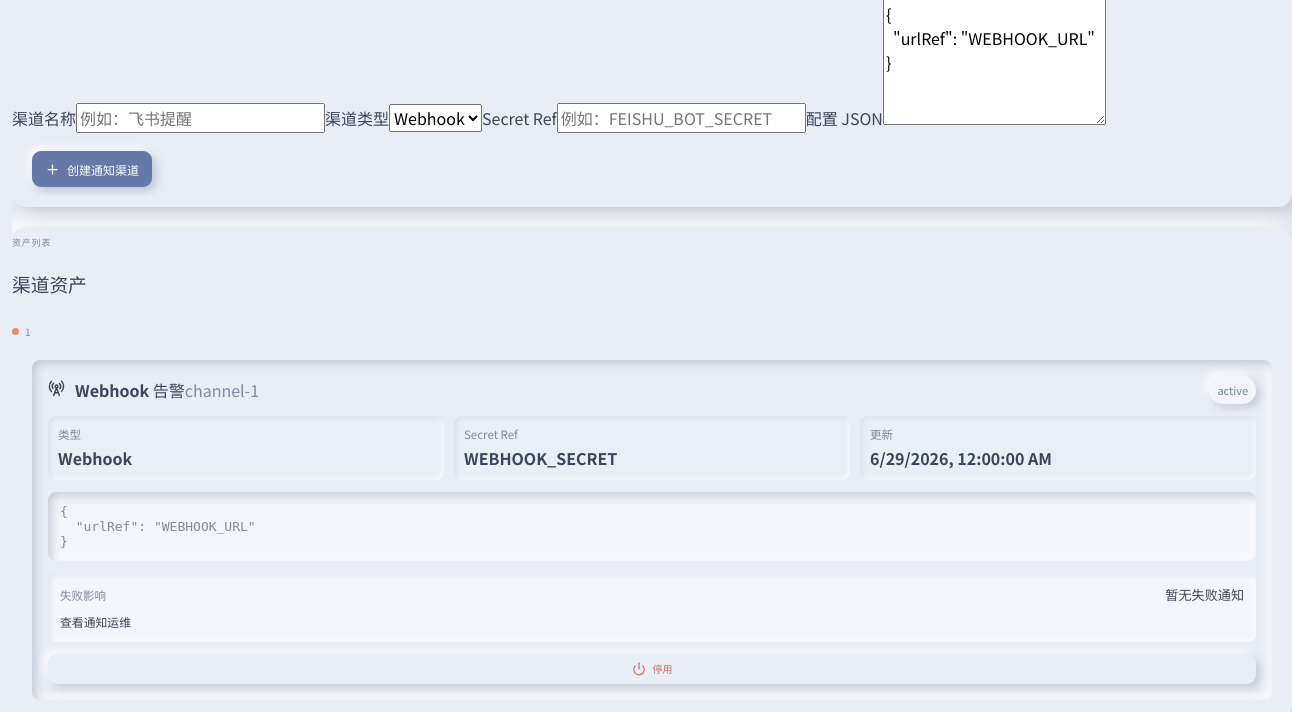
Test: NotificationChannels page › disables active channels and removes the disable action
(page scrolled)
Expected: the text "Webhook 告警" is shown, [75,378,185,402]
Click the button with aria-label "停用 Webhook 告警": (652, 669) [48,654,1256,684]
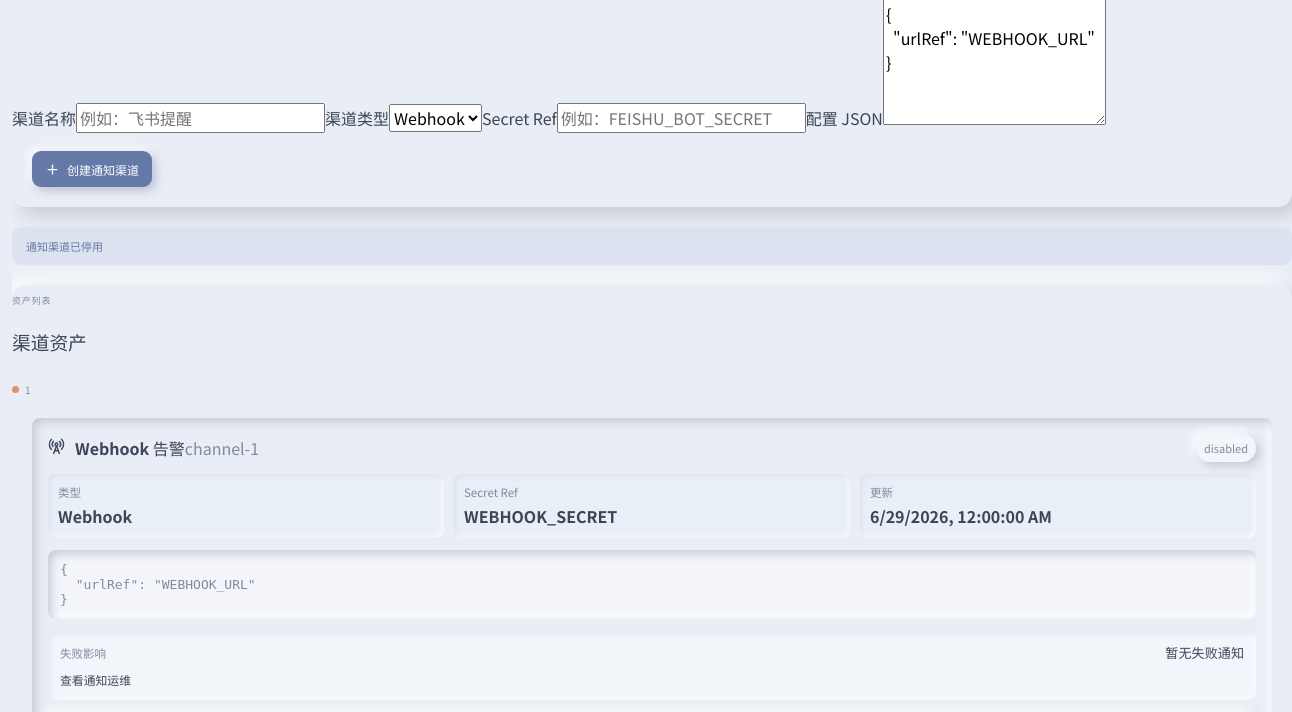
Expected: the text "disabled" is shown, [1196,434,1256,462]
